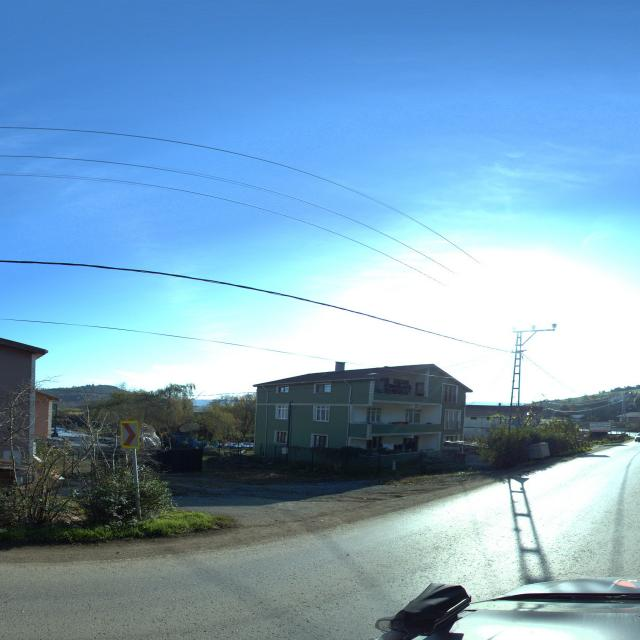Utility Pole Information Plate: (516, 408, 520, 412)
